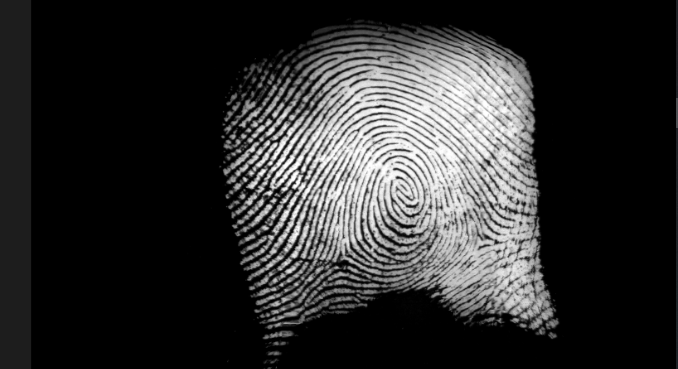deltas: (317, 230, 370, 281), (463, 214, 501, 261)
nucleo: (383, 164, 422, 217)
